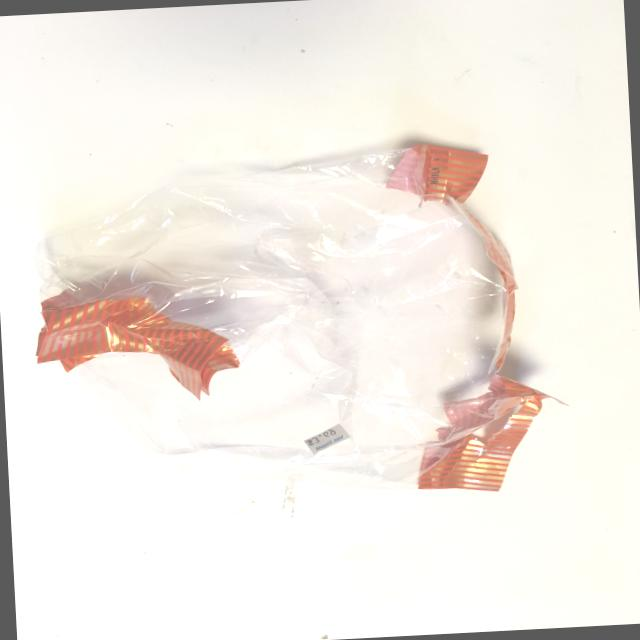Paper: (2, 115, 580, 534)
